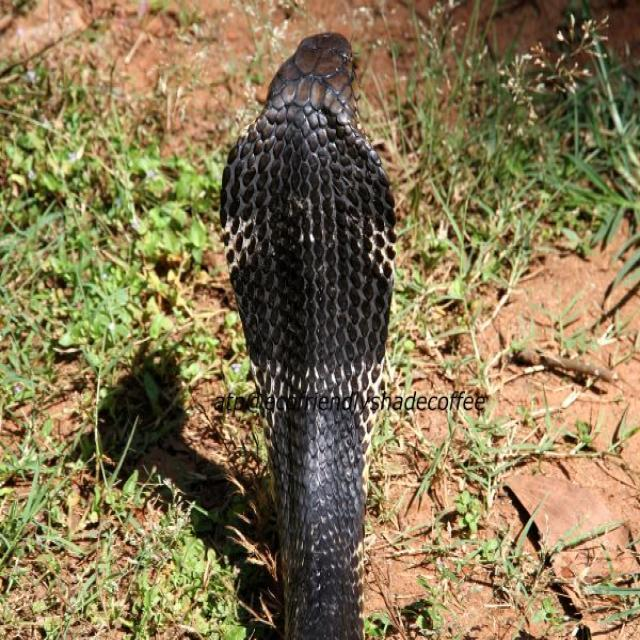Snake: (218, 30, 396, 638)
